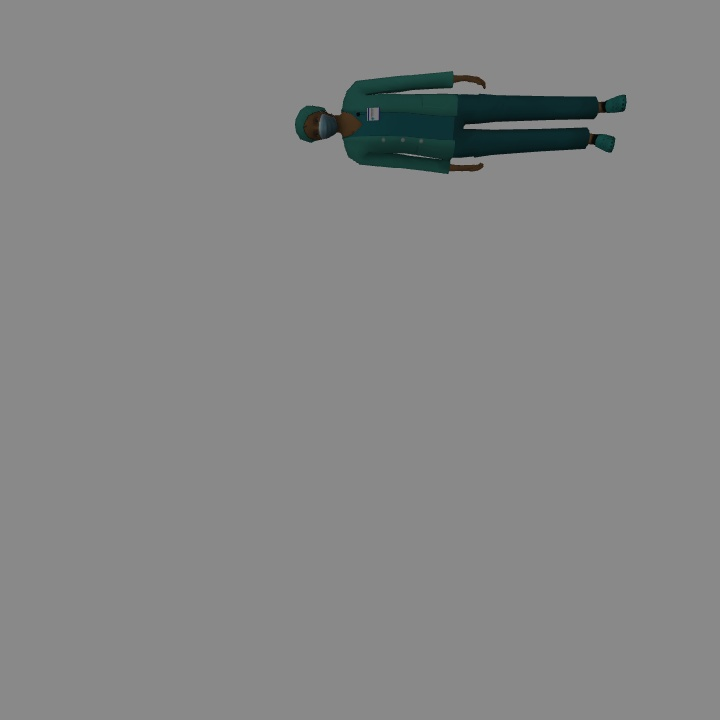victim: (293, 74, 626, 173)
